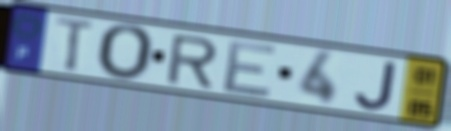4: (295, 47, 341, 110)
E: (219, 38, 280, 99)
J: (353, 59, 400, 112)
O: (96, 22, 157, 84)
R: (164, 33, 220, 90)
T: (54, 14, 98, 73)
